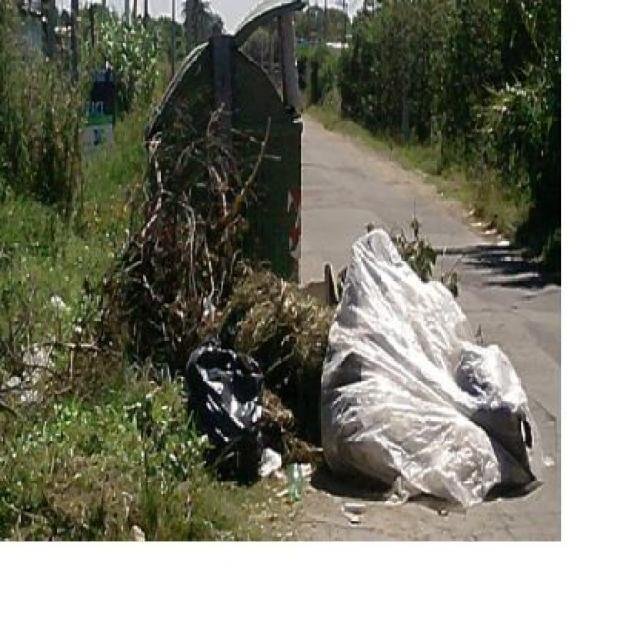garbage: (306, 234, 534, 499), (189, 329, 284, 494)
